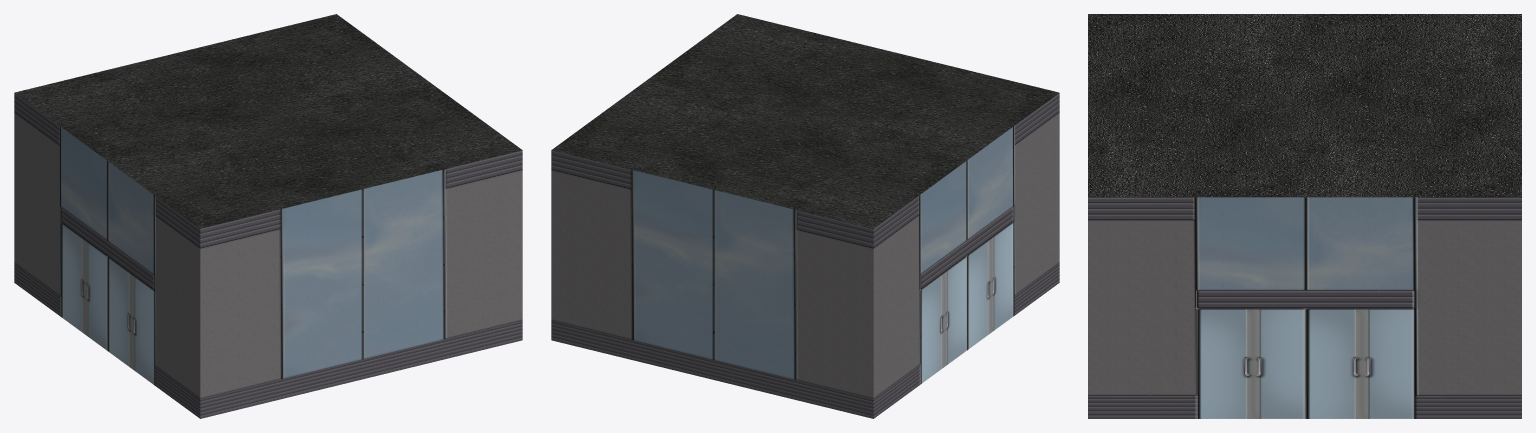
File: Building_Base_04.dae
The picture shows the model from 3 angles, left to right: view 1: azimuth 30°, elevation 25°; view 2: azimuth 150°, elevation 25°; view 3: azimuth 270°, elevation 25°; orthographic projection. The views are drawn at different scales.
Parts seen in each view (by area): view 1: Building_Base_04; view 2: Building_Base_04; view 3: Building_Base_04.
Part boxes in pixels (x1,y1,x2,y2): Building_Base_04: (14,14,522,418); Building_Base_04: (551,14,1059,418); Building_Base_04: (1088,14,1521,418).
Size of the model in its own units: 45.04 by 25.38 by 45.04.
